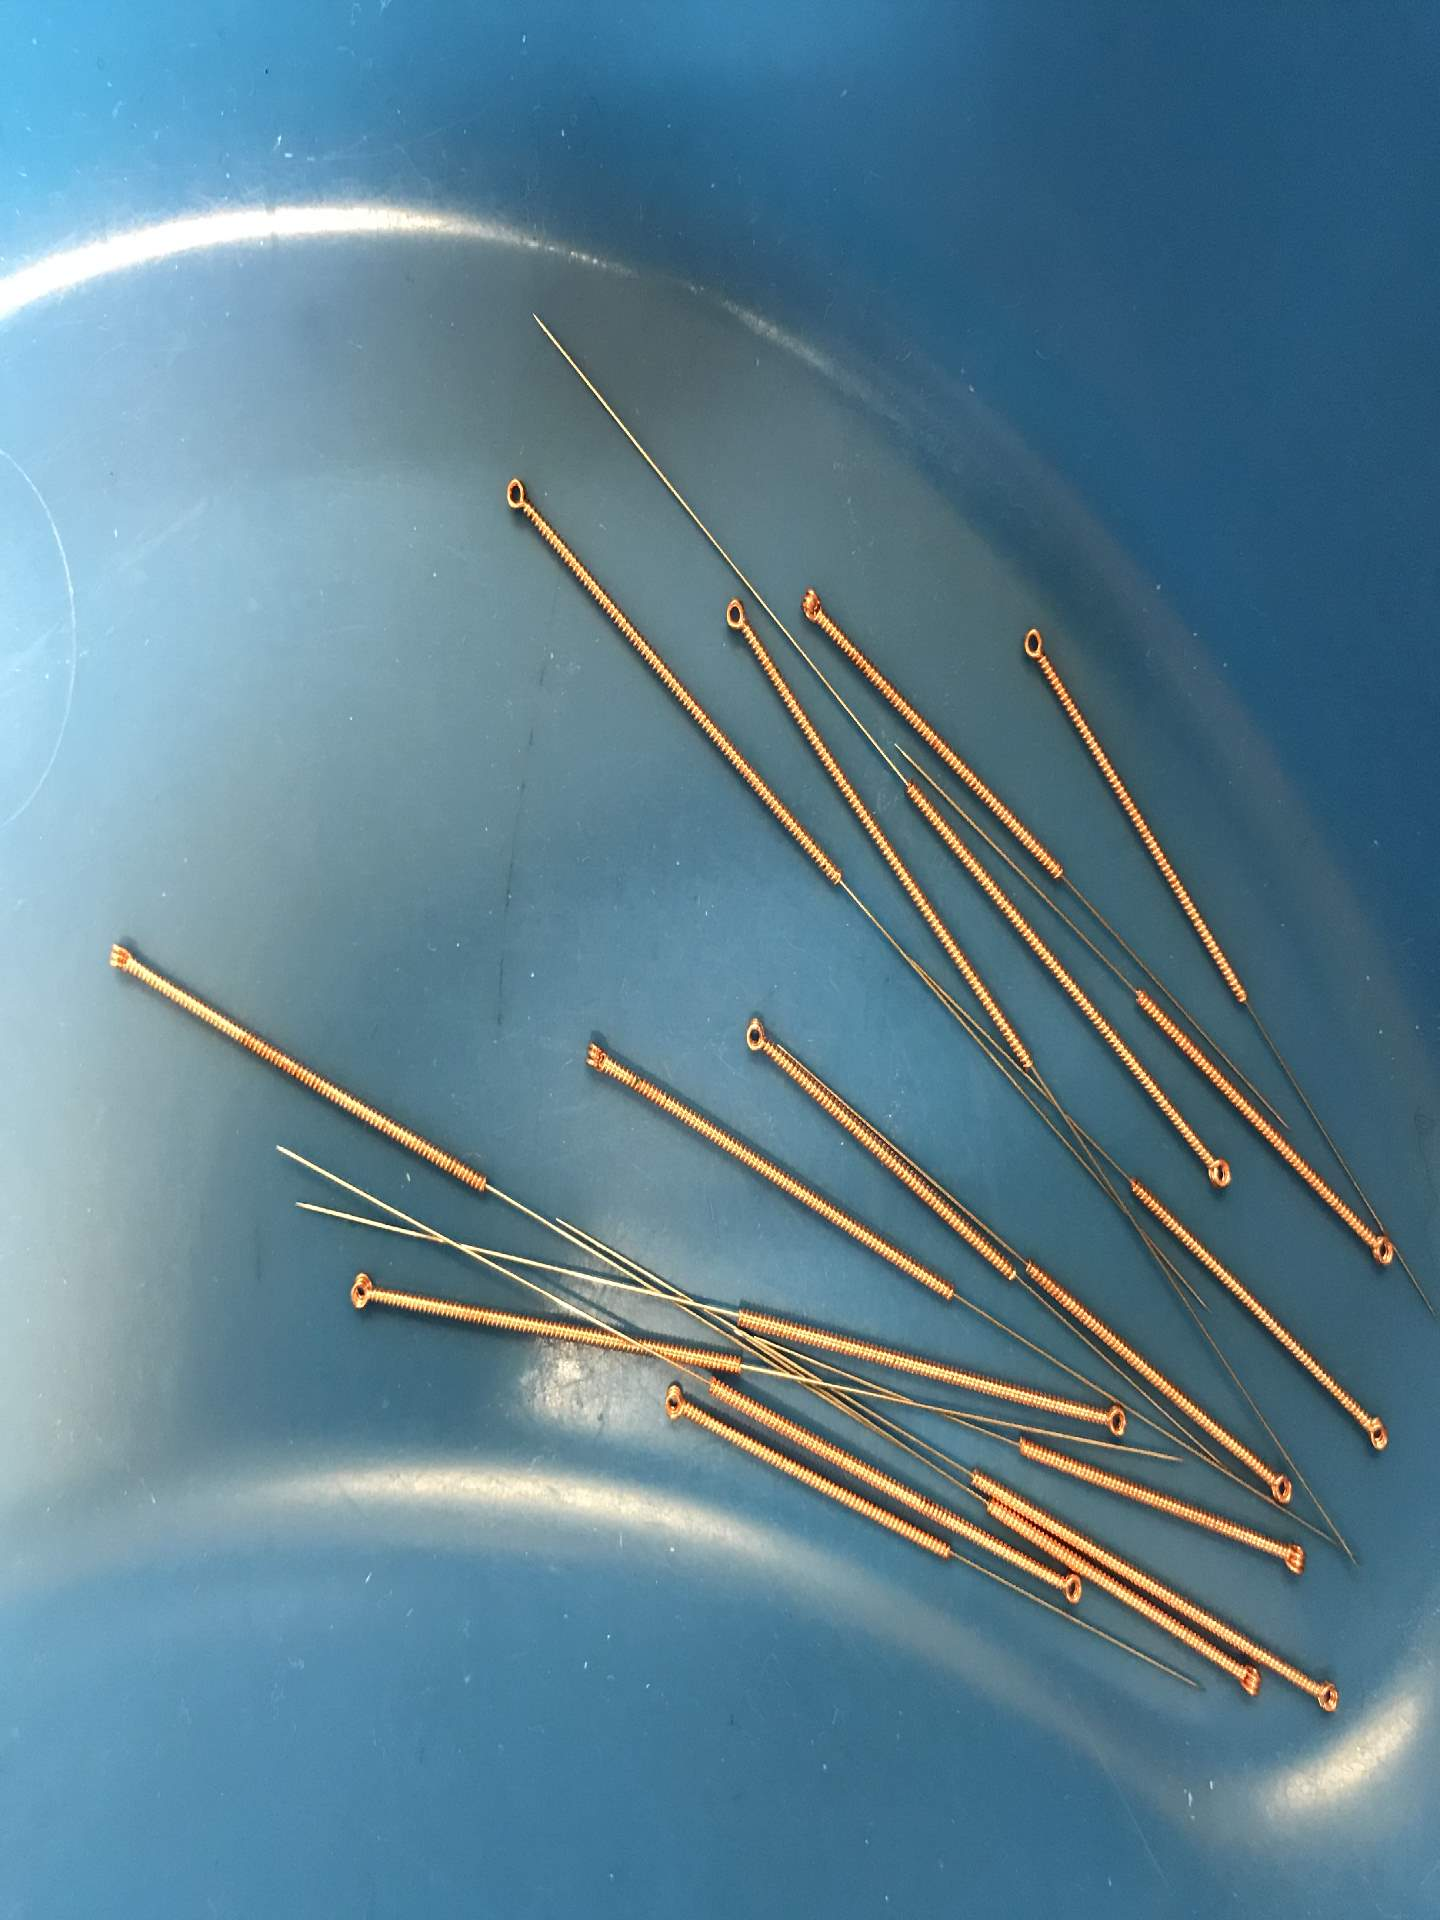needle: (91, 928, 147, 984), (334, 1265, 389, 1321), (490, 469, 545, 525), (1298, 1671, 1351, 1723), (1192, 1144, 1243, 1199), (1010, 618, 1059, 674), (709, 590, 758, 646), (650, 1376, 697, 1433), (785, 581, 835, 633), (1352, 1407, 1401, 1462), (1271, 1530, 1317, 1586), (1357, 1219, 1402, 1276), (731, 1008, 779, 1061), (570, 1036, 623, 1084), (1258, 1457, 1302, 1515), (1086, 1397, 1136, 1445), (1222, 1660, 1266, 1702), (1047, 1568, 1086, 1610)
